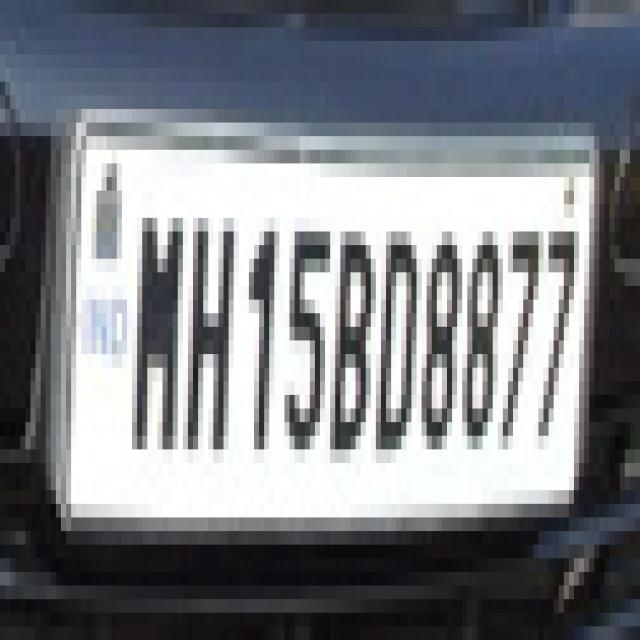1: (244, 194, 277, 463)
5: (285, 199, 333, 477)
7: (506, 206, 547, 443), (545, 216, 581, 449)
8: (420, 213, 460, 455), (463, 217, 502, 463)
B: (335, 216, 377, 473)
D: (379, 213, 425, 455)
H: (187, 190, 235, 478)
M: (131, 182, 182, 462)
